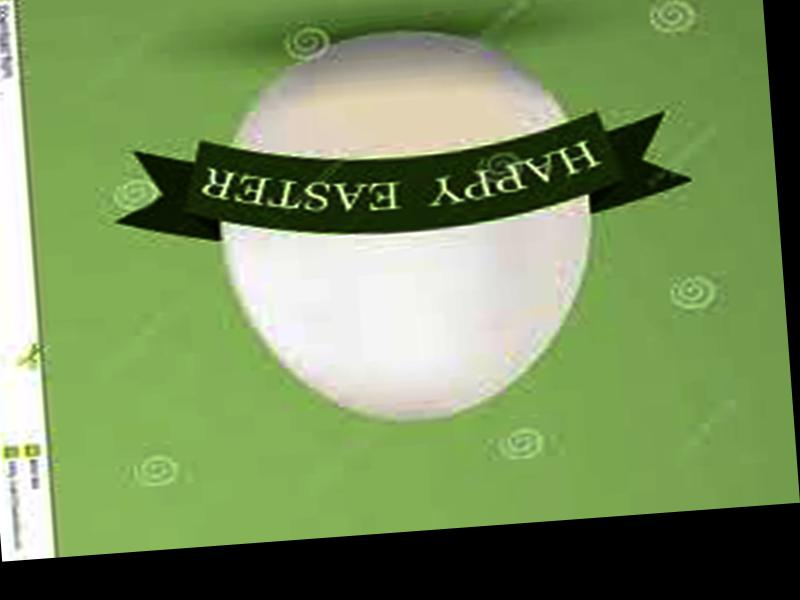Eggs: (205, 19, 600, 433)
